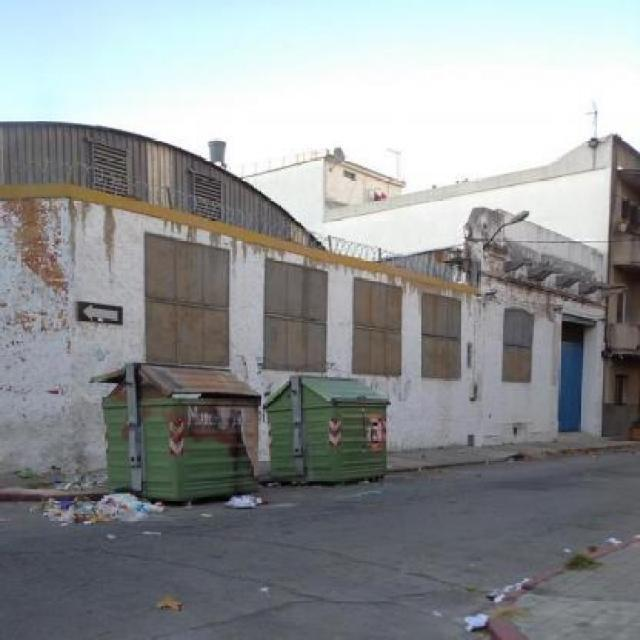garbage: (14, 465, 158, 540), (208, 488, 275, 508), (458, 603, 490, 639)
